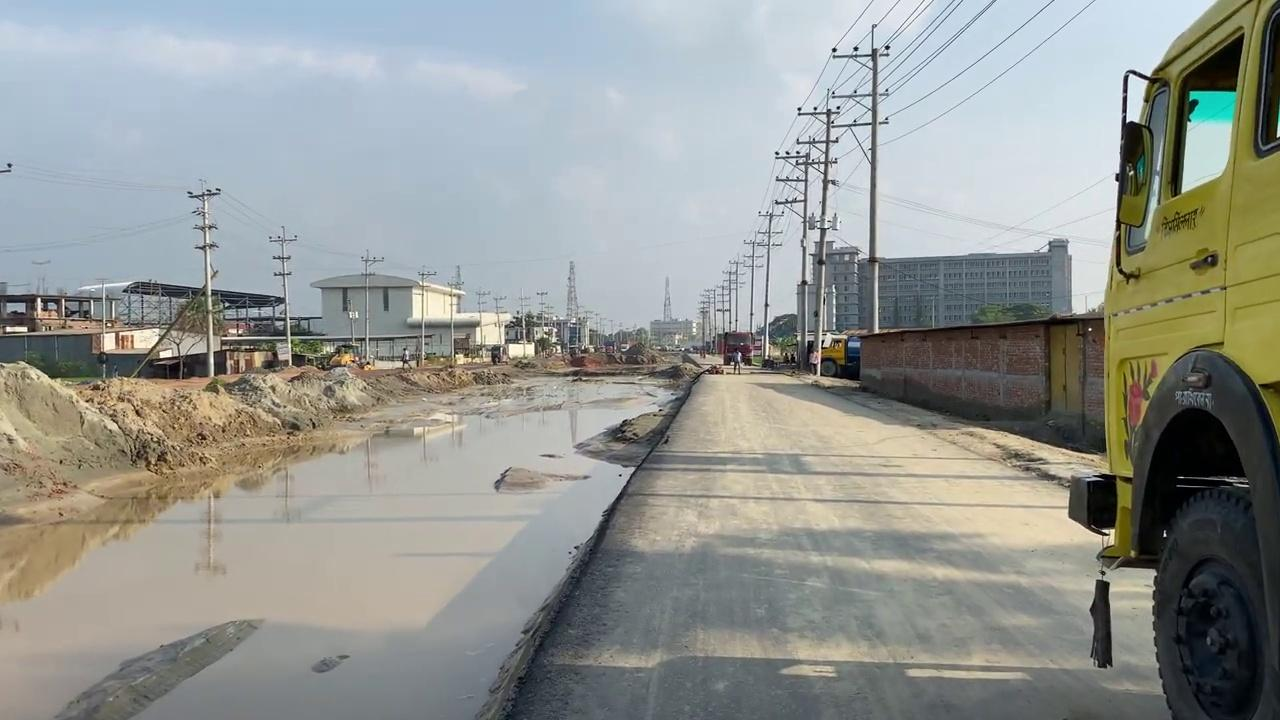Curb: (476, 357, 712, 717)
Pole: (830, 23, 890, 332), (187, 179, 221, 377), (268, 225, 297, 365)
Rickshaw: (497, 352, 1175, 718)
Sidewalk: (1, 369, 688, 718)
Tree: (1066, 0, 1279, 719), (811, 332, 861, 379), (314, 343, 373, 371), (721, 331, 754, 365), (328, 348, 356, 367)
Upstairs: (857, 312, 1105, 452)
